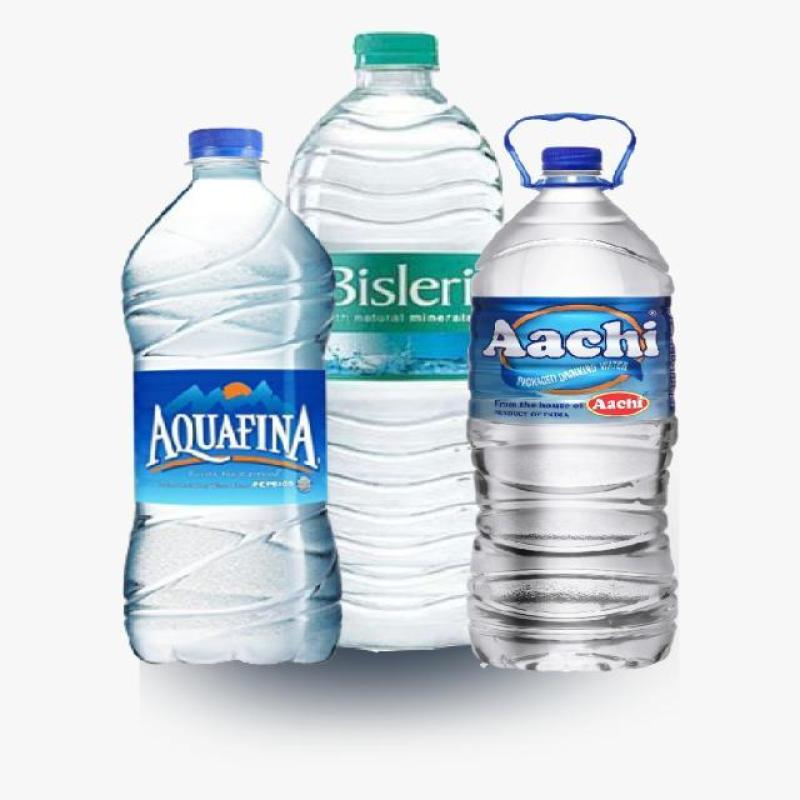botella: (289, 33, 520, 658), (120, 128, 346, 678), (470, 142, 679, 676)
